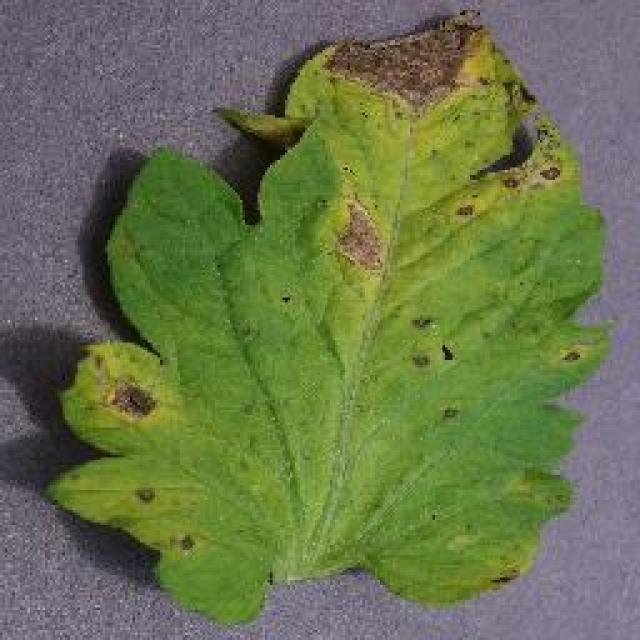Tomato target spot leaf: (52, 7, 610, 625)
